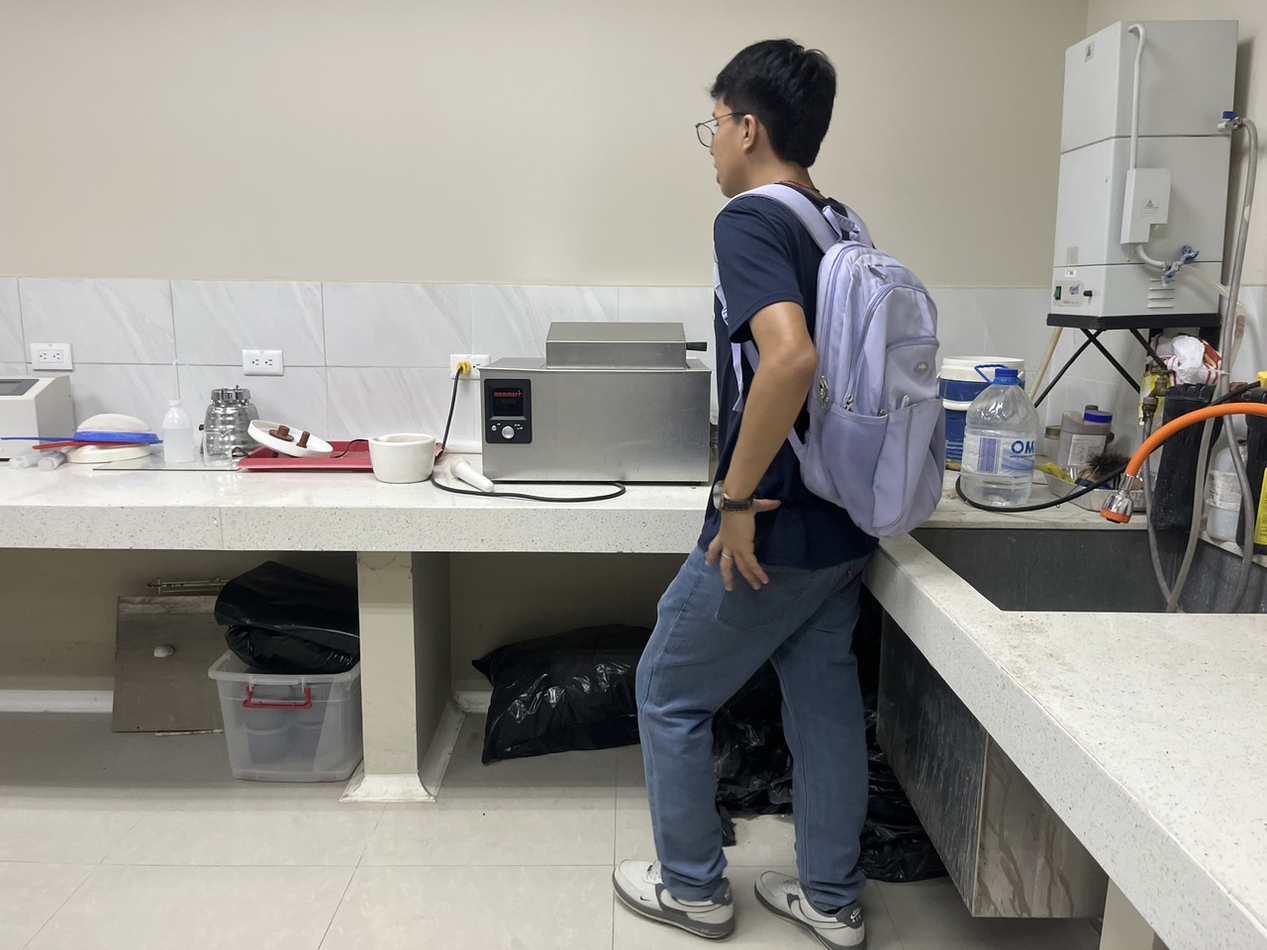memmert: (463, 283, 722, 503)
